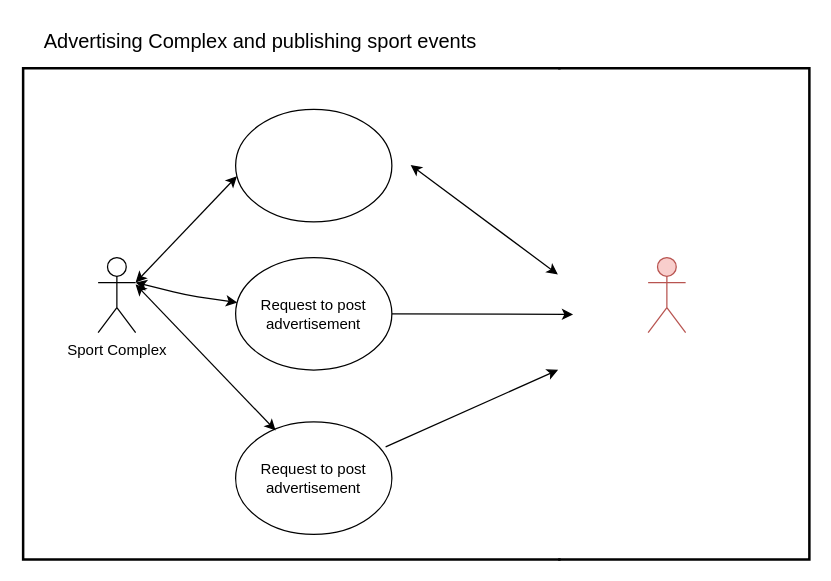
This 831x581 diagram has some shape labels left out. The centre of each missing label's shape, as x and y in pixels:
Getting list of advertisimint info like price, duration: (x=313, y=165)
SMI: (x=666, y=294)
